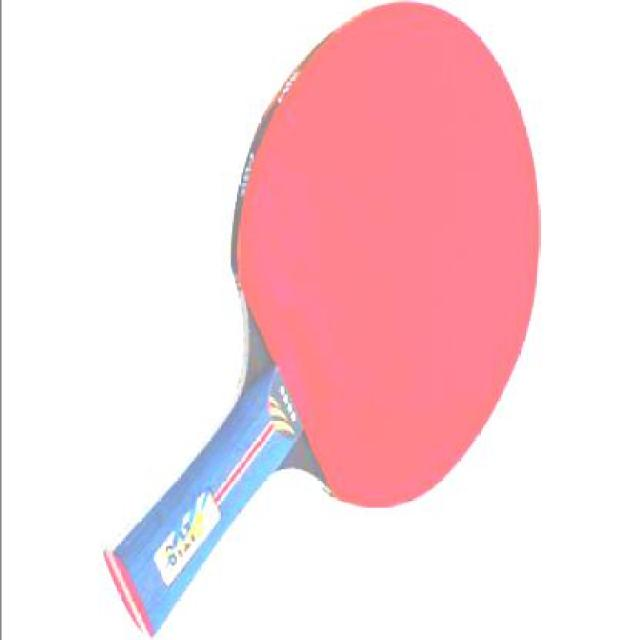table_tennis_racket: (220, 1, 549, 526)
